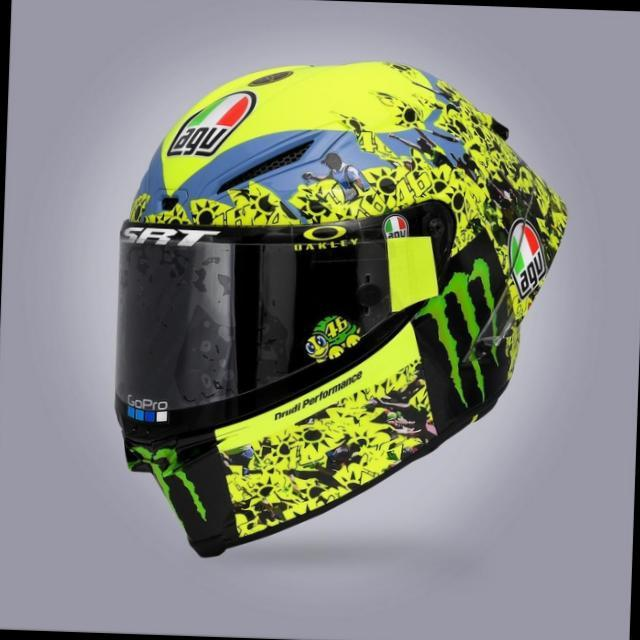Helm: (93, 45, 573, 595)
